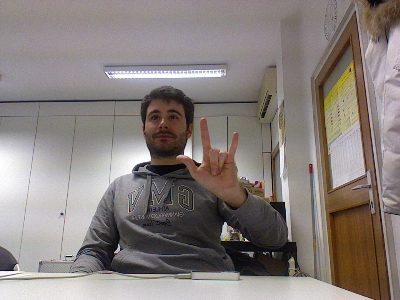我爱你: (173, 117, 240, 194)
